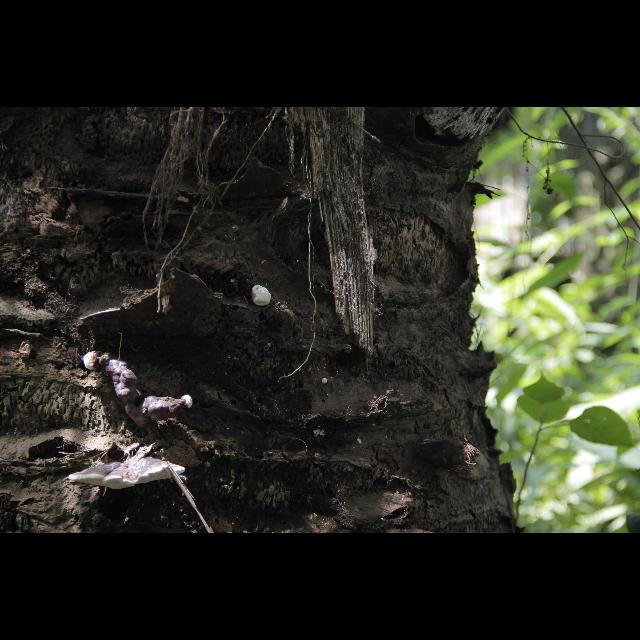ganoderma: (103, 353, 181, 431), (69, 457, 187, 491)
primordium: (252, 286, 272, 308), (84, 352, 102, 372), (182, 395, 194, 411), (322, 379, 328, 386)
